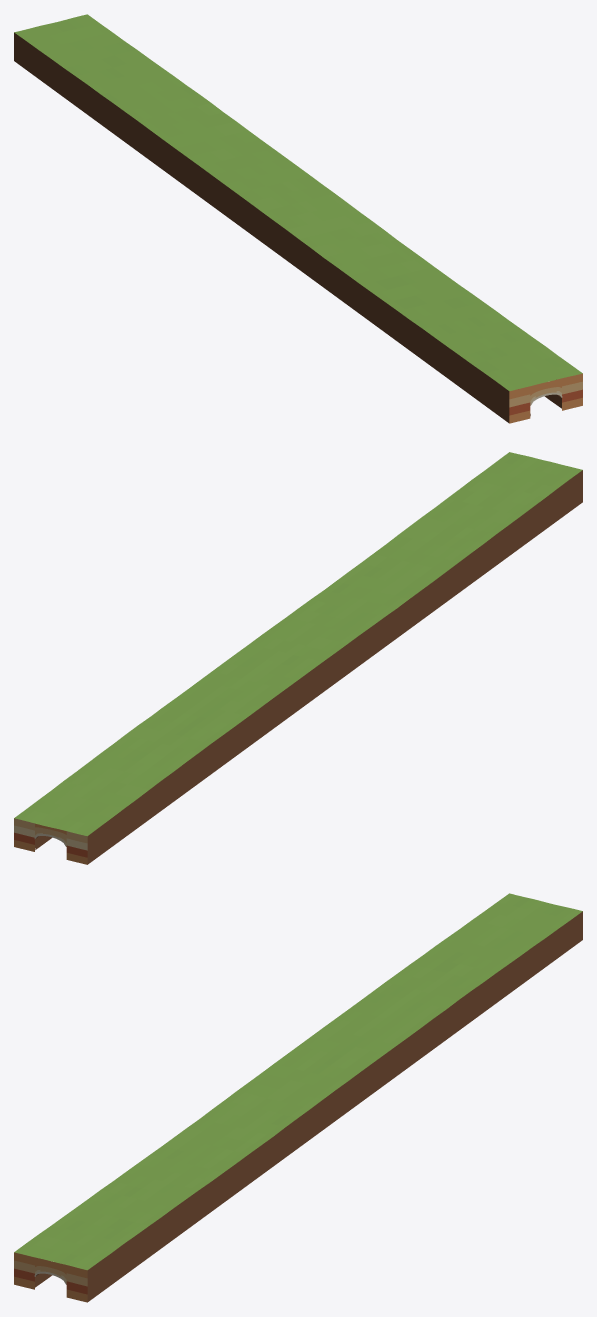
File: tunel_17g2.glb
3 views of the same model, one above another, from view 1: azimuth 30°, elevation 25°; view 2: azimuth 150°, elevation 25°; view 3: azimuth 330°, elevation 25° (orthographic).
Visible parts, largest first — view 1: tunel_17g2; view 2: tunel_17g2; view 3: tunel_17g2.
Part boxes in pixels (<box>): tunel_17g2: <box>14,14,582,423</box>; tunel_17g2: <box>14,452,582,864</box>; tunel_17g2: <box>14,893,582,1302</box>.
Bounding box in the file's own units: 84 × 35.58 × 982.
